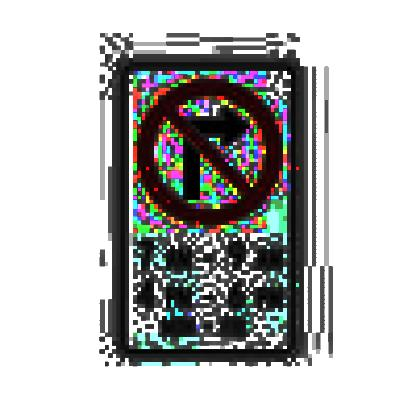No right turn: (138, 70, 286, 223)
